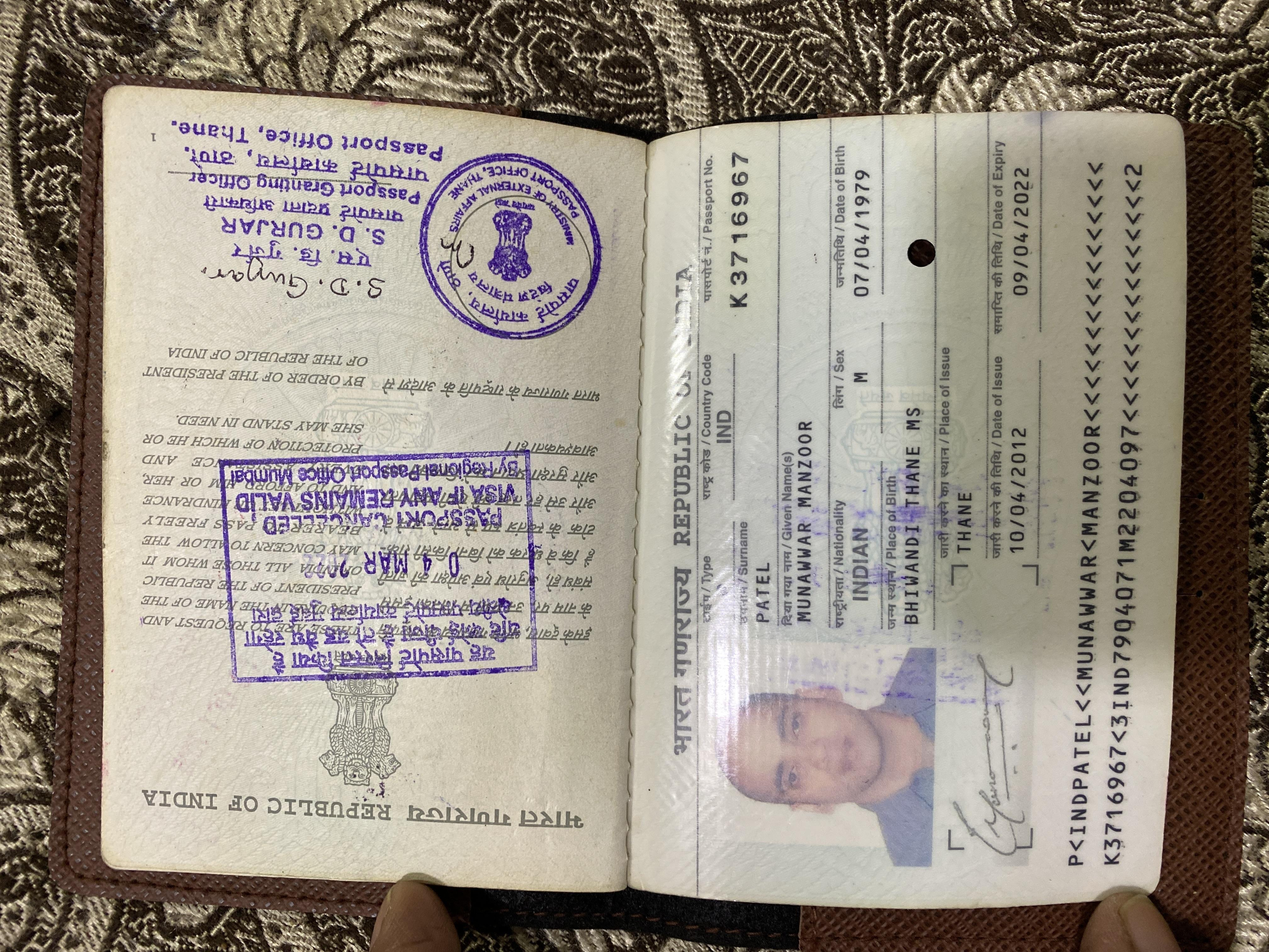DOB: (867, 637, 1054, 661)
Surname: (434, 564, 521, 582)
country_code: (672, 535, 727, 552)
date_of_expiry: (867, 754, 1053, 777)
date_of_issue: (526, 751, 708, 775)
details: (94, 795, 1071, 858)
name: (434, 594, 713, 615)
nationality: (457, 636, 573, 655)
passport_no: (854, 543, 1078, 566)
photo: (148, 535, 394, 695)
place_of_birth: (432, 675, 743, 698)
place_of_issue: (527, 712, 617, 734)
sex: (751, 638, 784, 656)
sign: (127, 712, 417, 772)
type: (462, 535, 503, 552)
